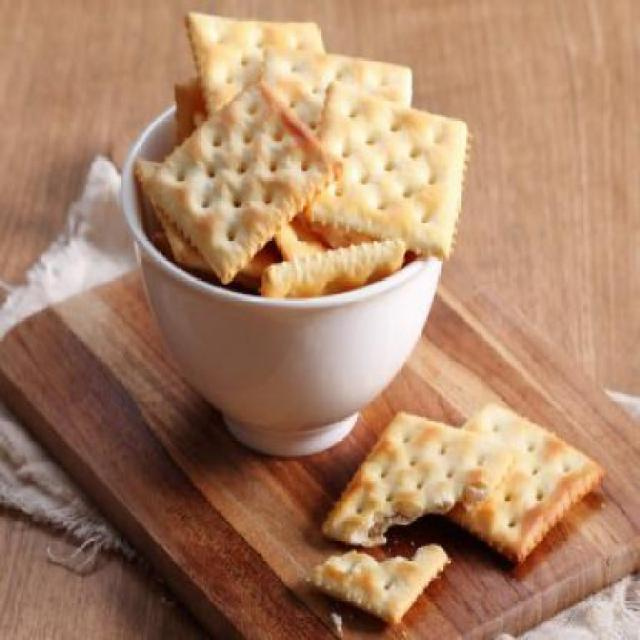Cracker packaged: (312, 399, 499, 613), (158, 74, 327, 280), (304, 74, 482, 266), (442, 388, 610, 566)
